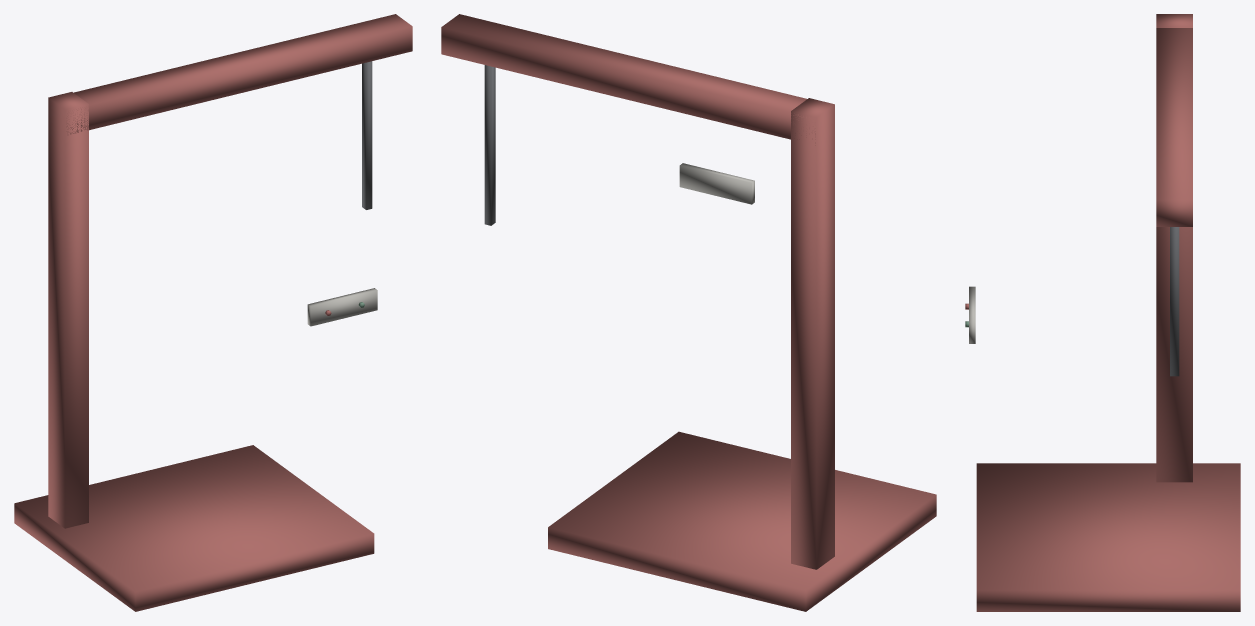
Rendered from engine_hoist__deep.glb.
The picture shows the model from 3 angles, left to right: view 1: azimuth 30°, elevation 25°; view 2: azimuth 150°, elevation 25°; view 3: azimuth 270°, elevation 25°; orthographic projection. The views are drawn at different scales.
Visible parts, largest first — view 1: world; view 2: world; view 3: world.
Part boxes in pixels (x1,y1,x2,y2): world: (14,14,412,611); world: (441,14,936,611); world: (965,14,1240,611).
Bounding box in the file's own units: 1.5 × 1.75 × 0.9162.
